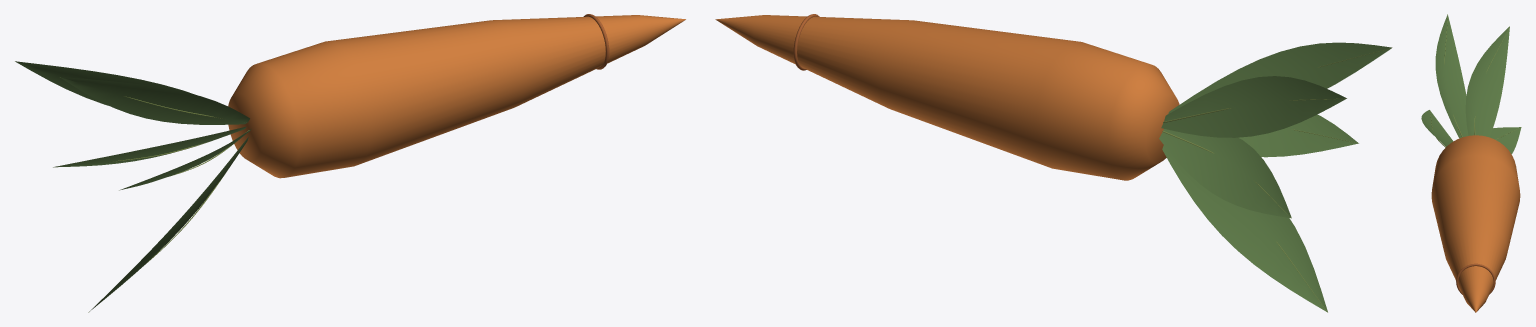
The model's file is props_p7__p7_carrot.glb.
3 views of the same model, side by side, from view 1: azimuth 30°, elevation 25°; view 2: azimuth 150°, elevation 25°; view 3: azimuth 270°, elevation 25° (orthographic). The views are drawn at different scales.
Parts seen in each view (by area): view 1: carrot, carrot_leaf_3, carrot_leaf_1, carrot_leaf_4, carrot_leaf_2, carrot_leaf_0, reference_static_surfaces; view 2: carrot, carrot_leaf_1, carrot_leaf_2, carrot_leaf_4, carrot_leaf_3, carrot_leaf_0, reference_static_surfaces; view 3: carrot, carrot_leaf_1, carrot_leaf_3, carrot_leaf_4, carrot_leaf_0, reference_static_surfaces (×2).
Part boxes in pixels (box(x1,y1,x2,y2)): carrot: box(228, 15, 685, 178); carrot_leaf_3: box(60, 77, 249, 124); carrot_leaf_1: box(15, 61, 194, 105); carrot_leaf_4: box(53, 126, 246, 167); carrot_leaf_2: box(90, 137, 248, 310); carrot_leaf_0: box(119, 129, 251, 190); reference_static_surfaces: box(54, 77, 249, 312); carrot: box(715, 15, 1179, 180); carrot_leaf_1: box(1161, 76, 1346, 137); carrot_leaf_2: box(1162, 145, 1327, 312); carrot_leaf_4: box(1159, 129, 1291, 218); carrot_leaf_3: box(1168, 42, 1391, 113); carrot_leaf_0: box(1238, 114, 1358, 157); reference_static_surfaces: box(1162, 47, 1392, 312); carrot: box(1431, 135, 1520, 312); carrot_leaf_1: box(1465, 26, 1509, 137); carrot_leaf_3: box(1435, 15, 1468, 138); carrot_leaf_4: box(1489, 127, 1521, 154); carrot_leaf_0: box(1421, 110, 1453, 146); reference_static_surfaces (×2): box(1429, 14, 1520, 294).
Bounding box in the file's own units: 0.18 × 0.0691 × 0.0348.
